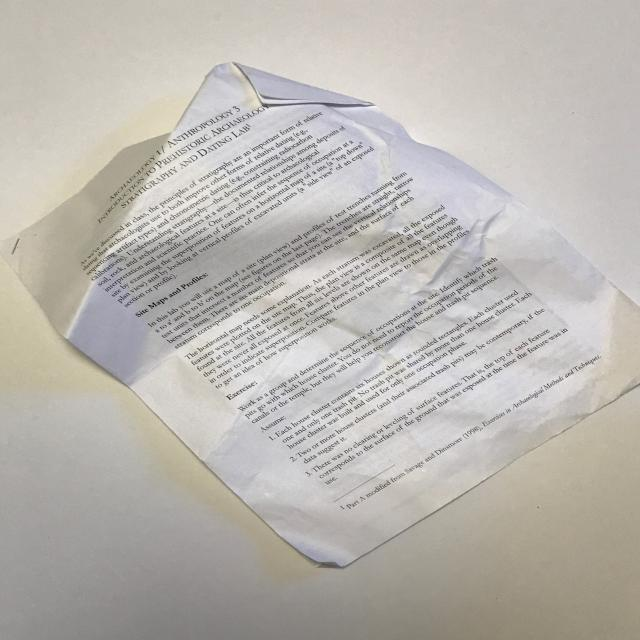Paper: (5, 55, 640, 593)
